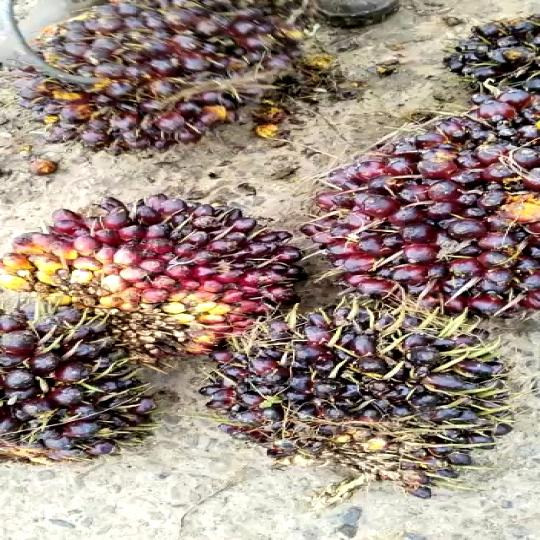kurang masak: (193, 291, 508, 496), (5, 2, 337, 166), (330, 112, 540, 332), (28, 184, 268, 354), (0, 331, 193, 467)
